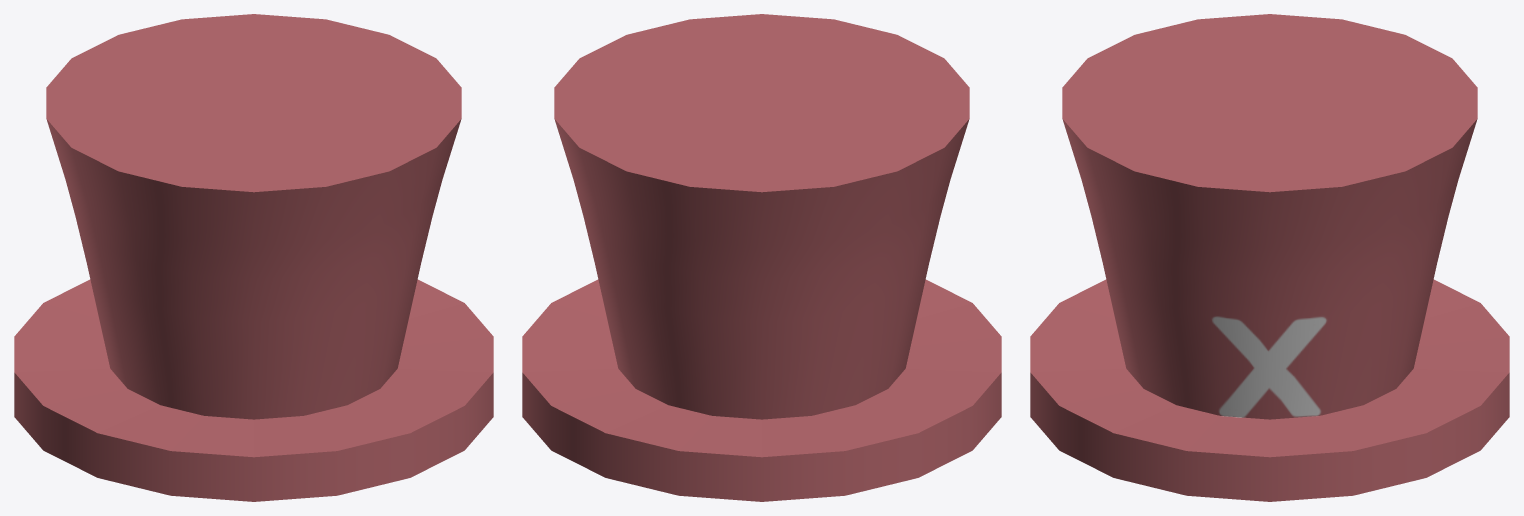
File: Doctor_Hat.fbx
3 views of the same model, side by side, from view 1: azimuth 30°, elevation 25°; view 2: azimuth 150°, elevation 25°; view 3: azimuth 270°, elevation 25° (orthographic).
Visible parts, largest first — view 1: Cylinder001; view 2: Cylinder001; view 3: Cylinder001.
Boxes of the visible parts, bbox=[...] form: Cylinder001: bbox=[14, 14, 493, 501]; Cylinder001: bbox=[522, 14, 1001, 501]; Cylinder001: bbox=[1030, 14, 1509, 501].
Bounding box in the file's own units: 48.35 × 32.45 × 47.62.
1 material, 1 textured.
